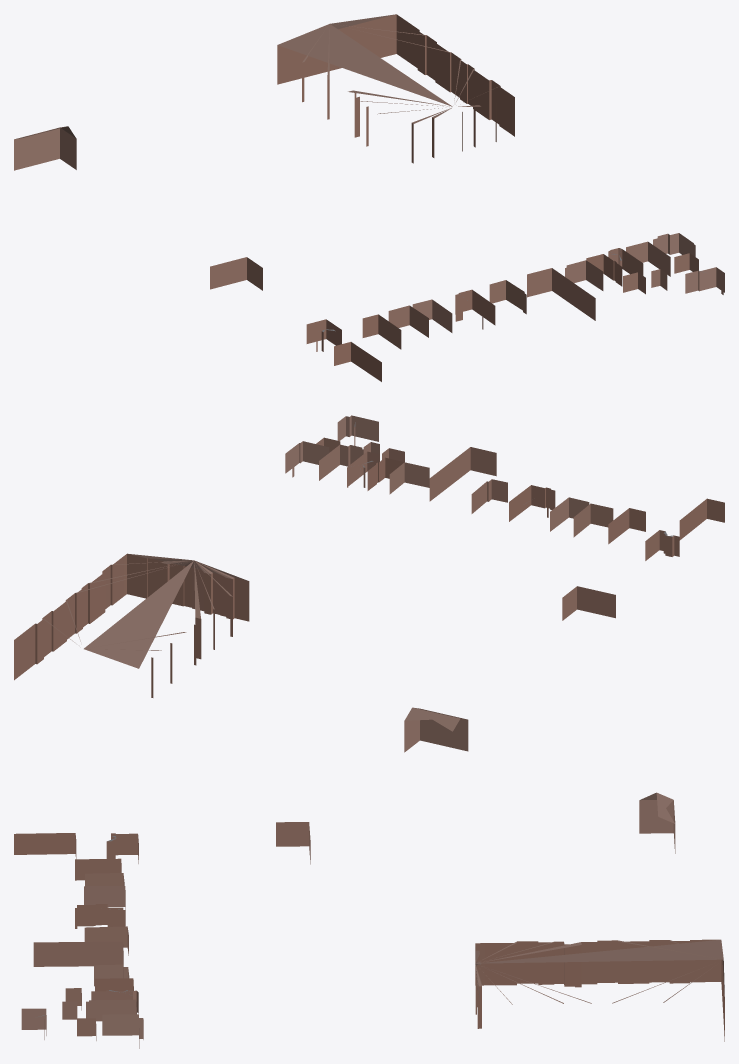
The model's file is c_1639_17827_buildings_residential.glb.
3 renders of one model, top to bottom at view 1: azimuth 30°, elevation 25°; view 2: azimuth 150°, elevation 25°; view 3: azimuth 270°, elevation 25°, orthographic. The views are drawn at different scales.
Visible parts, largest first — view 1: geometry_0; view 2: geometry_0; view 3: geometry_0.
Boxes of the visible parts, x1,y1,x2,y2 form: geometry_0: (14, 14, 724, 381); geometry_0: (14, 415, 724, 752); geometry_0: (14, 792, 724, 1048).
Bounding box in the file's own units: 208 × 22.5 × 289.
